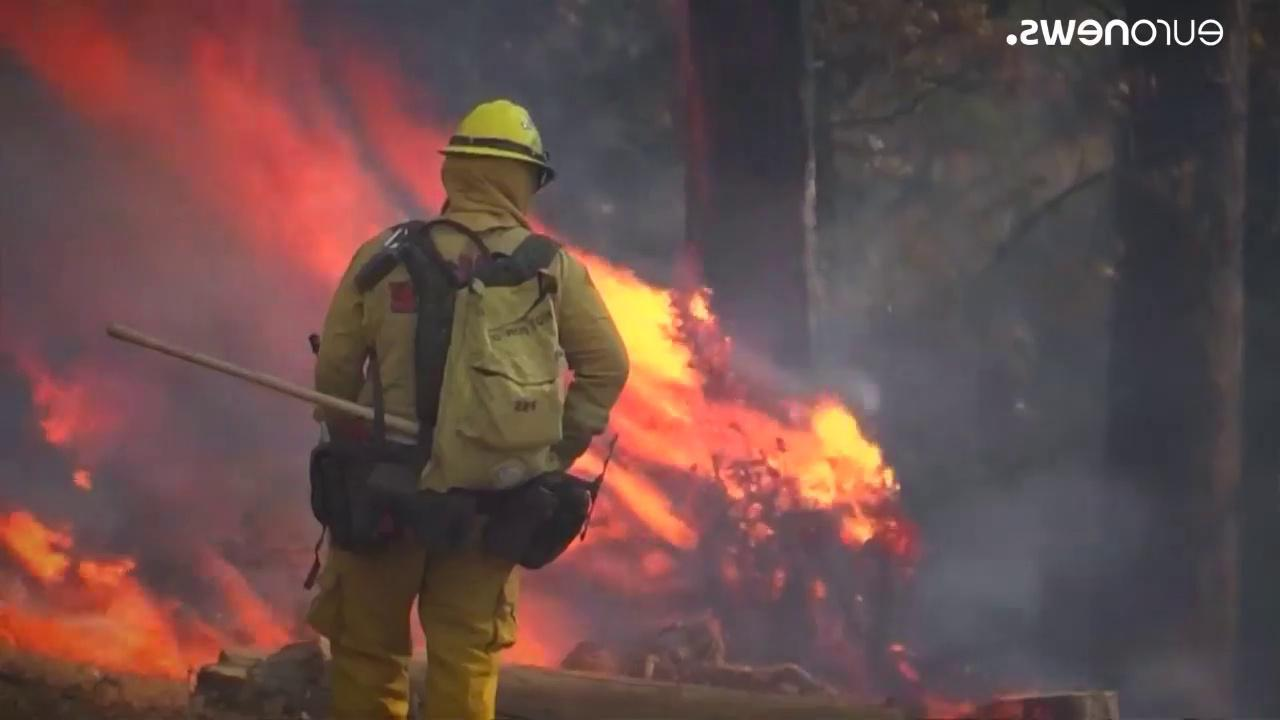Fire: (724, 283, 1252, 703), (580, 242, 906, 559), (5, 498, 308, 677)
